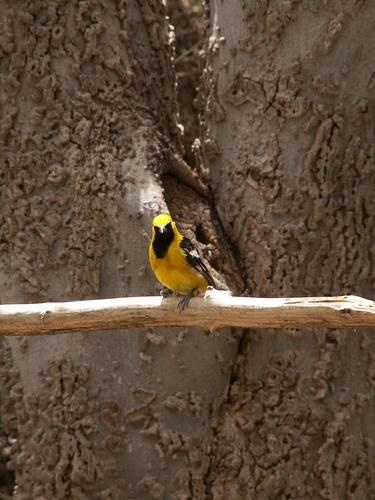bird: (149, 214, 217, 315)
